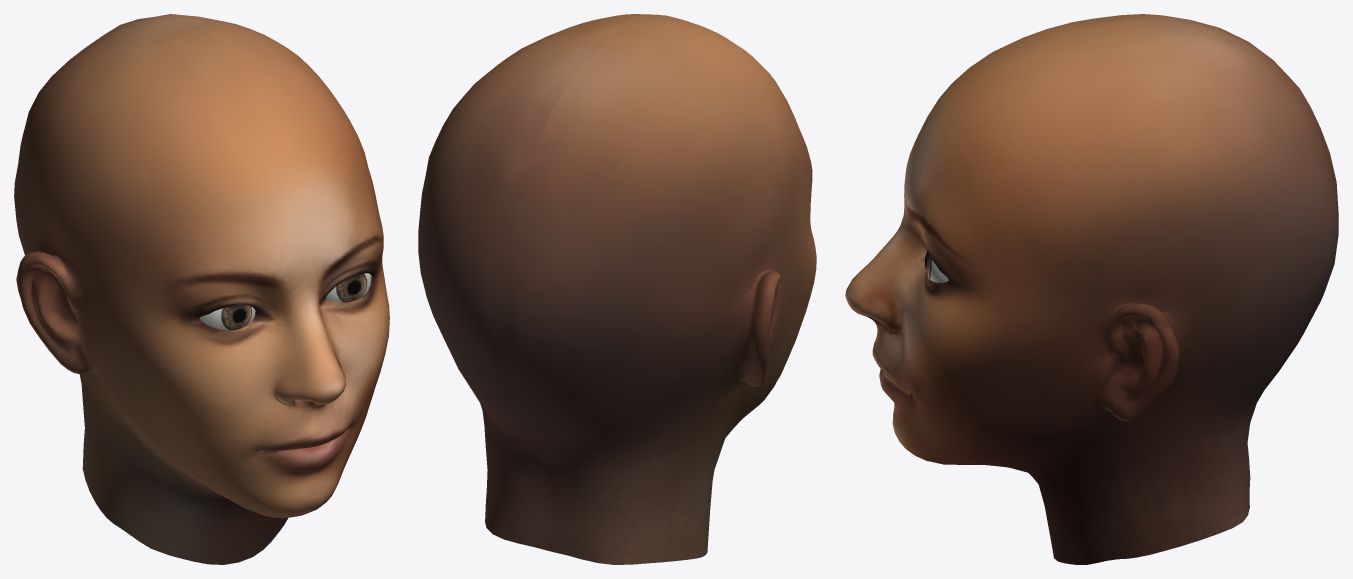
File: HeadObject.fbx
3 renders of one model, left to right at view 1: azimuth 30°, elevation 25°; view 2: azimuth 150°, elevation 25°; view 3: azimuth 270°, elevation 25°, orthographic. The views are drawn at different scales.
Parts seen in each view (by area): view 1: Head; view 2: Head; view 3: Head.
Boxes of the visible parts, x1,y1,x2,y2 form: Head: (14,14,389,564); Head: (418,14,816,564); Head: (845,14,1338,564).
Size of the model in its own units: 0.1644 by 0.2419 by 0.2076.
Materials: 1 (1 with a texture image).
